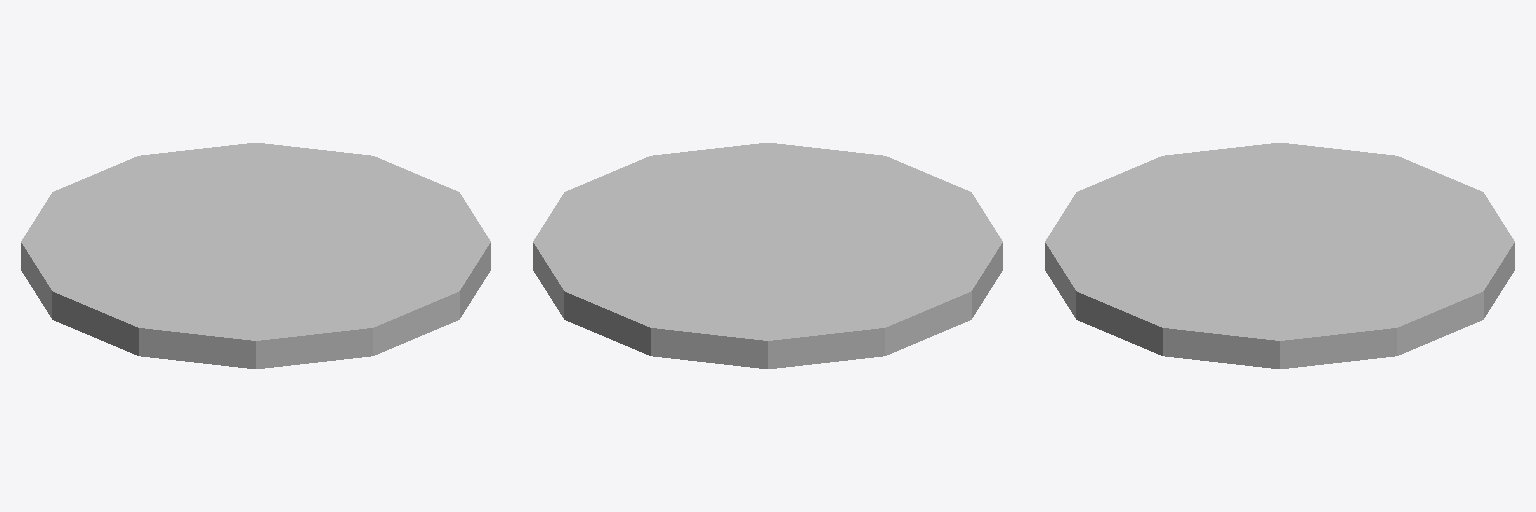
File: Toonie.obj
3 renders of one model, left to right at view 1: azimuth 30°, elevation 25°; view 2: azimuth 150°, elevation 25°; view 3: azimuth 270°, elevation 25°, orthographic.
Parts seen in each view (by area): view 1: ToonieRing, ToonieCenter; view 2: ToonieRing, ToonieCenter; view 3: ToonieRing, ToonieCenter.
Boxes of the visible parts, x1=… form: ToonieRing: x1=21, y1=143, x2=490, y2=368; ToonieCenter: x1=116, y1=183, x2=395, y2=300; ToonieRing: x1=533, y1=143, x2=1002, y2=368; ToonieCenter: x1=628, y1=183, x2=907, y2=300; ToonieRing: x1=1045, y1=143, x2=1514, y2=368; ToonieCenter: x1=1140, y1=183, x2=1419, y2=300.
Bounding box in the file's own units: 2.4 × 0.16 × 2.4.